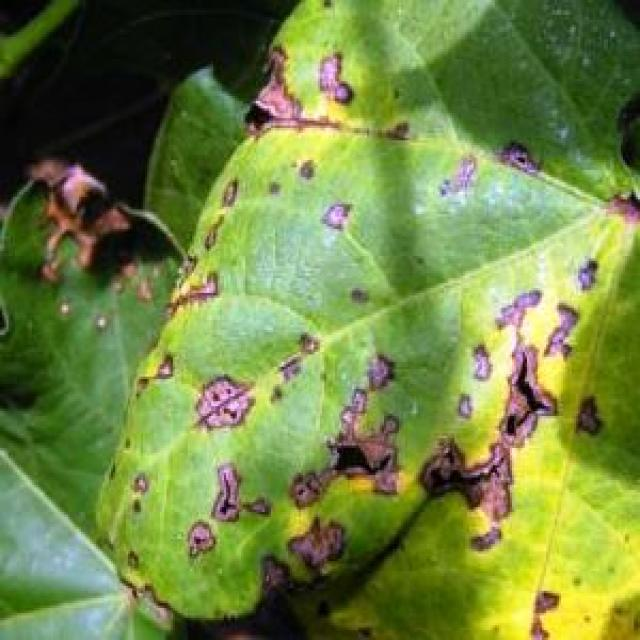Bacterial Blight: (192, 308, 620, 562)
